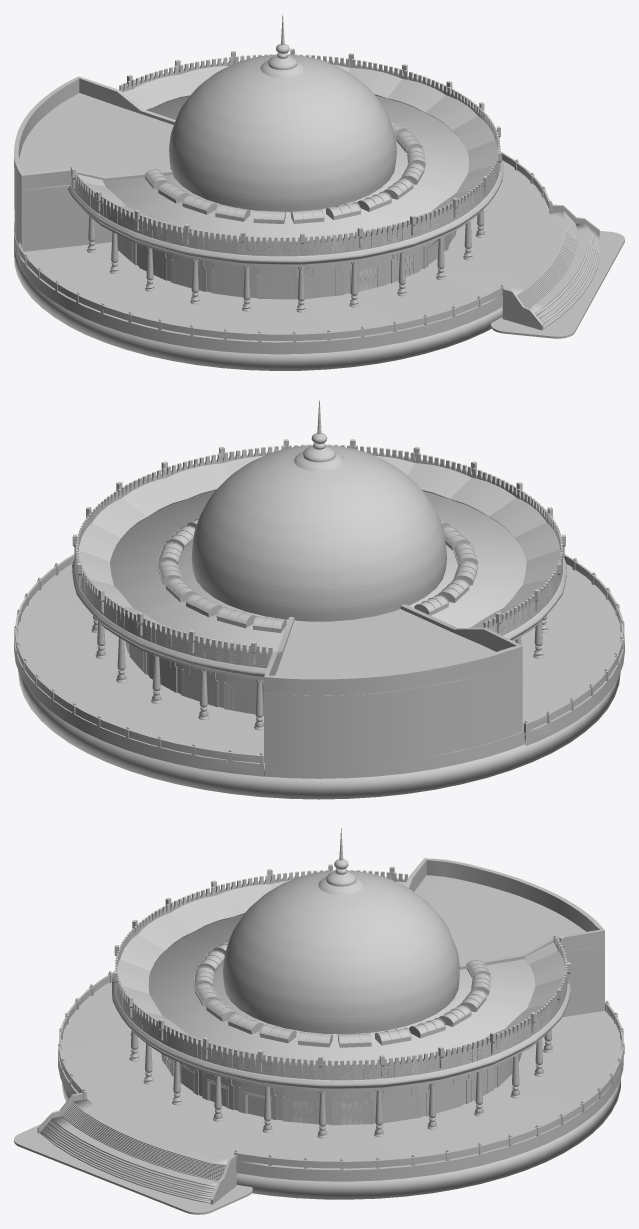
The picture shows the model from 3 angles, top to bottom: view 1: azimuth 30°, elevation 25°; view 2: azimuth 150°, elevation 25°; view 3: azimuth 270°, elevation 25°; orthographic projection. The views are drawn at different scales.
Parts seen in each view (by area): view 1: temur musey.model; view 2: temur musey.model; view 3: temur musey.model.
Part boxes in pixels (x1,y1,x2,y2): temur musey.model: (14, 14, 624, 370); temur musey.model: (14, 399, 624, 799); temur musey.model: (14, 828, 624, 1214).
Bounding box in the file's own units: 3254 × 1492 × 3262.
